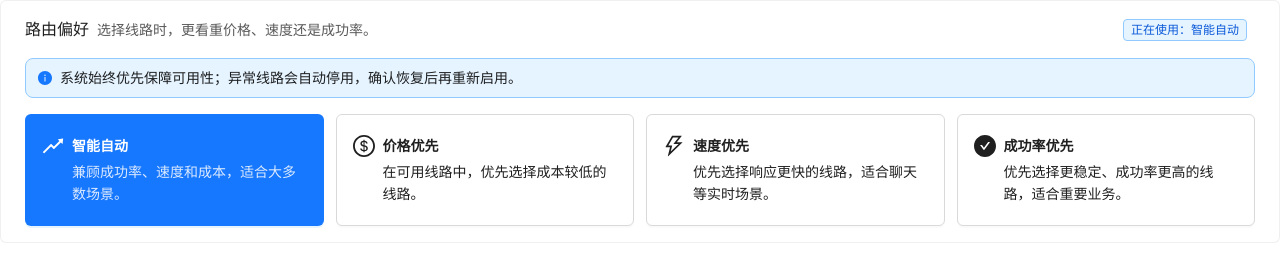
Test: OwnerRoutingPreferenceCard › shows four presets and saves the selected owner preference
Click the radio button labelled "价格优先 在可用线路中，优先选择成本较低的线路。". click: (485, 170)
box: x1=336 y1=114 x2=634 y2=226
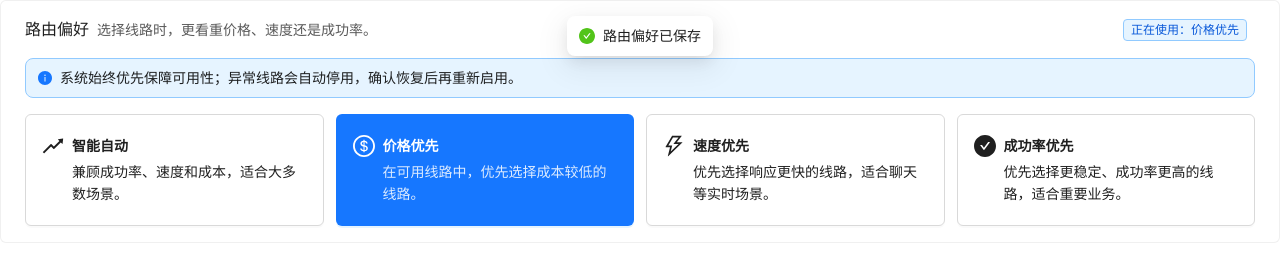
Now the text "路由偏好已保存" is shown, box x1=603 y1=25 x2=701 y2=47
Now the text with test id "effective-strategy" reads "正在使用：价格优先", box x1=1131 y1=22 x2=1239 y2=37
